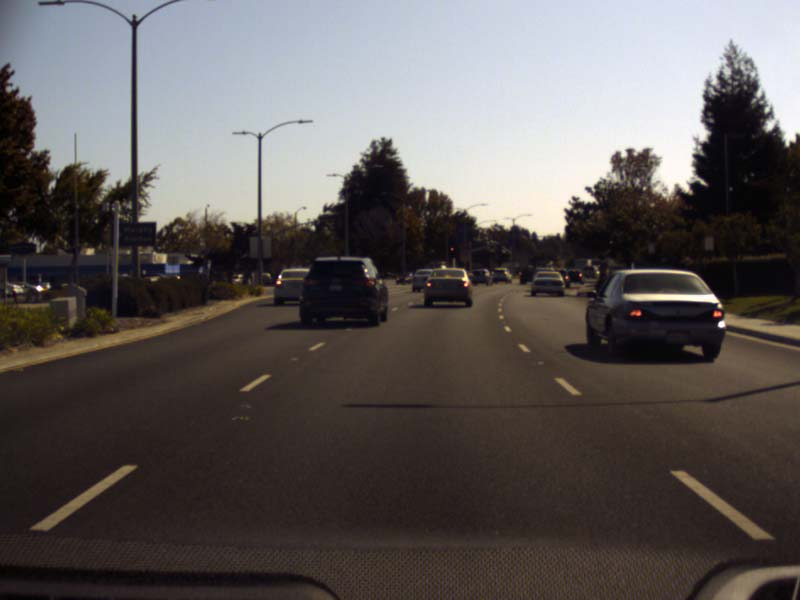Yellow: (449, 244, 456, 256)
